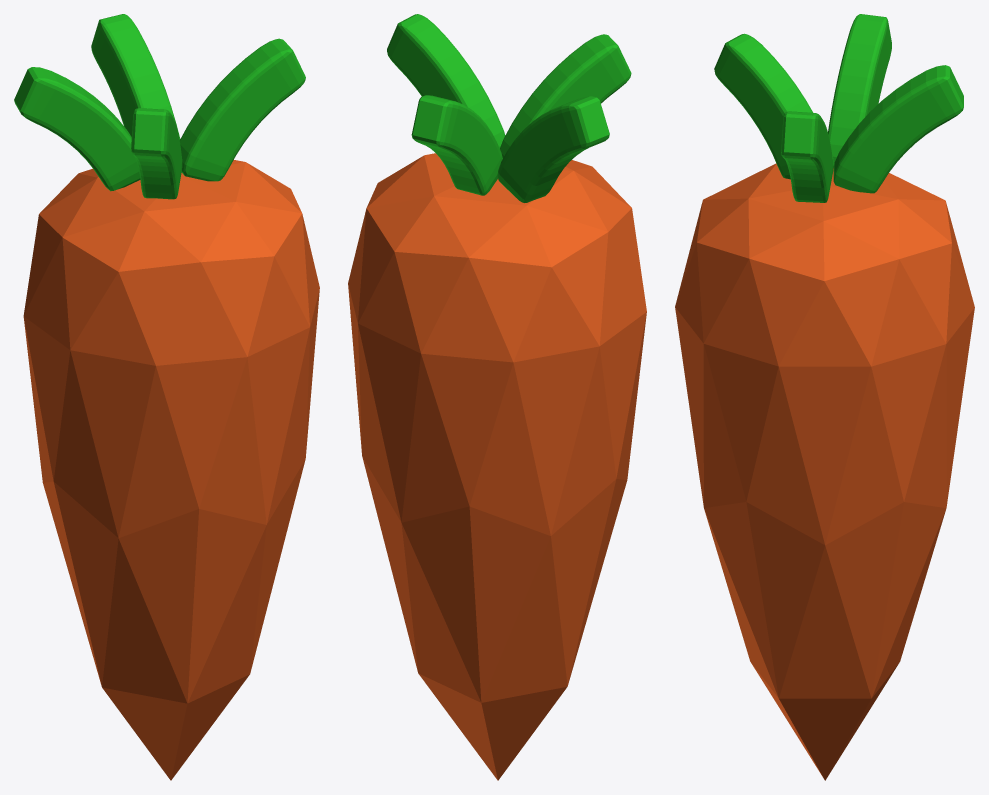
Rendered from Carrot_model.fbx.
3 views of the same model, side by side, from view 1: azimuth 30°, elevation 25°; view 2: azimuth 150°, elevation 25°; view 3: azimuth 270°, elevation 25° (orthographic).
Visible parts, largest first — view 1: carrot; view 2: carrot; view 3: carrot.
Part boxes in pixels (x1,y1,x2,y2): carrot: [14, 14, 319, 780]; carrot: [348, 14, 646, 780]; carrot: [675, 14, 974, 780].
Size of the model in its own units: 48.8 by 131 by 50.
